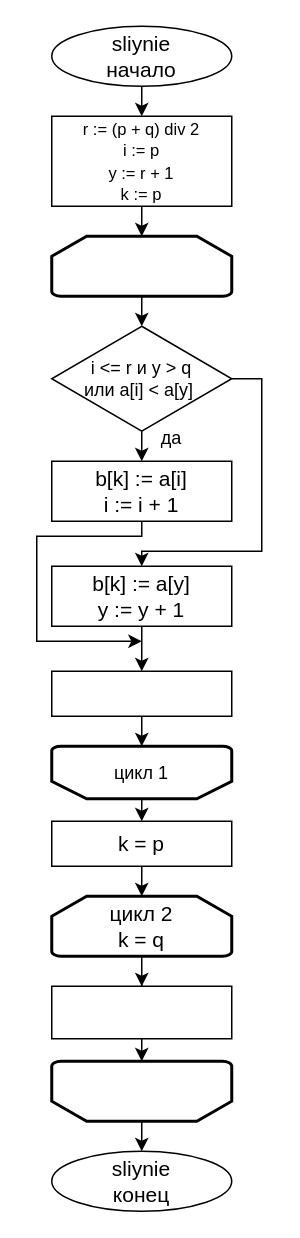
This 300x1238 diagram has some shape labels left out. Each missing label, with the centre of its shape:
a[k] := b[k] k = k+1: point (141, 1012)
k = k+1: point (141, 693)
цикл 1 k = q: point (141, 265)
цикл 2: point (141, 1090)
